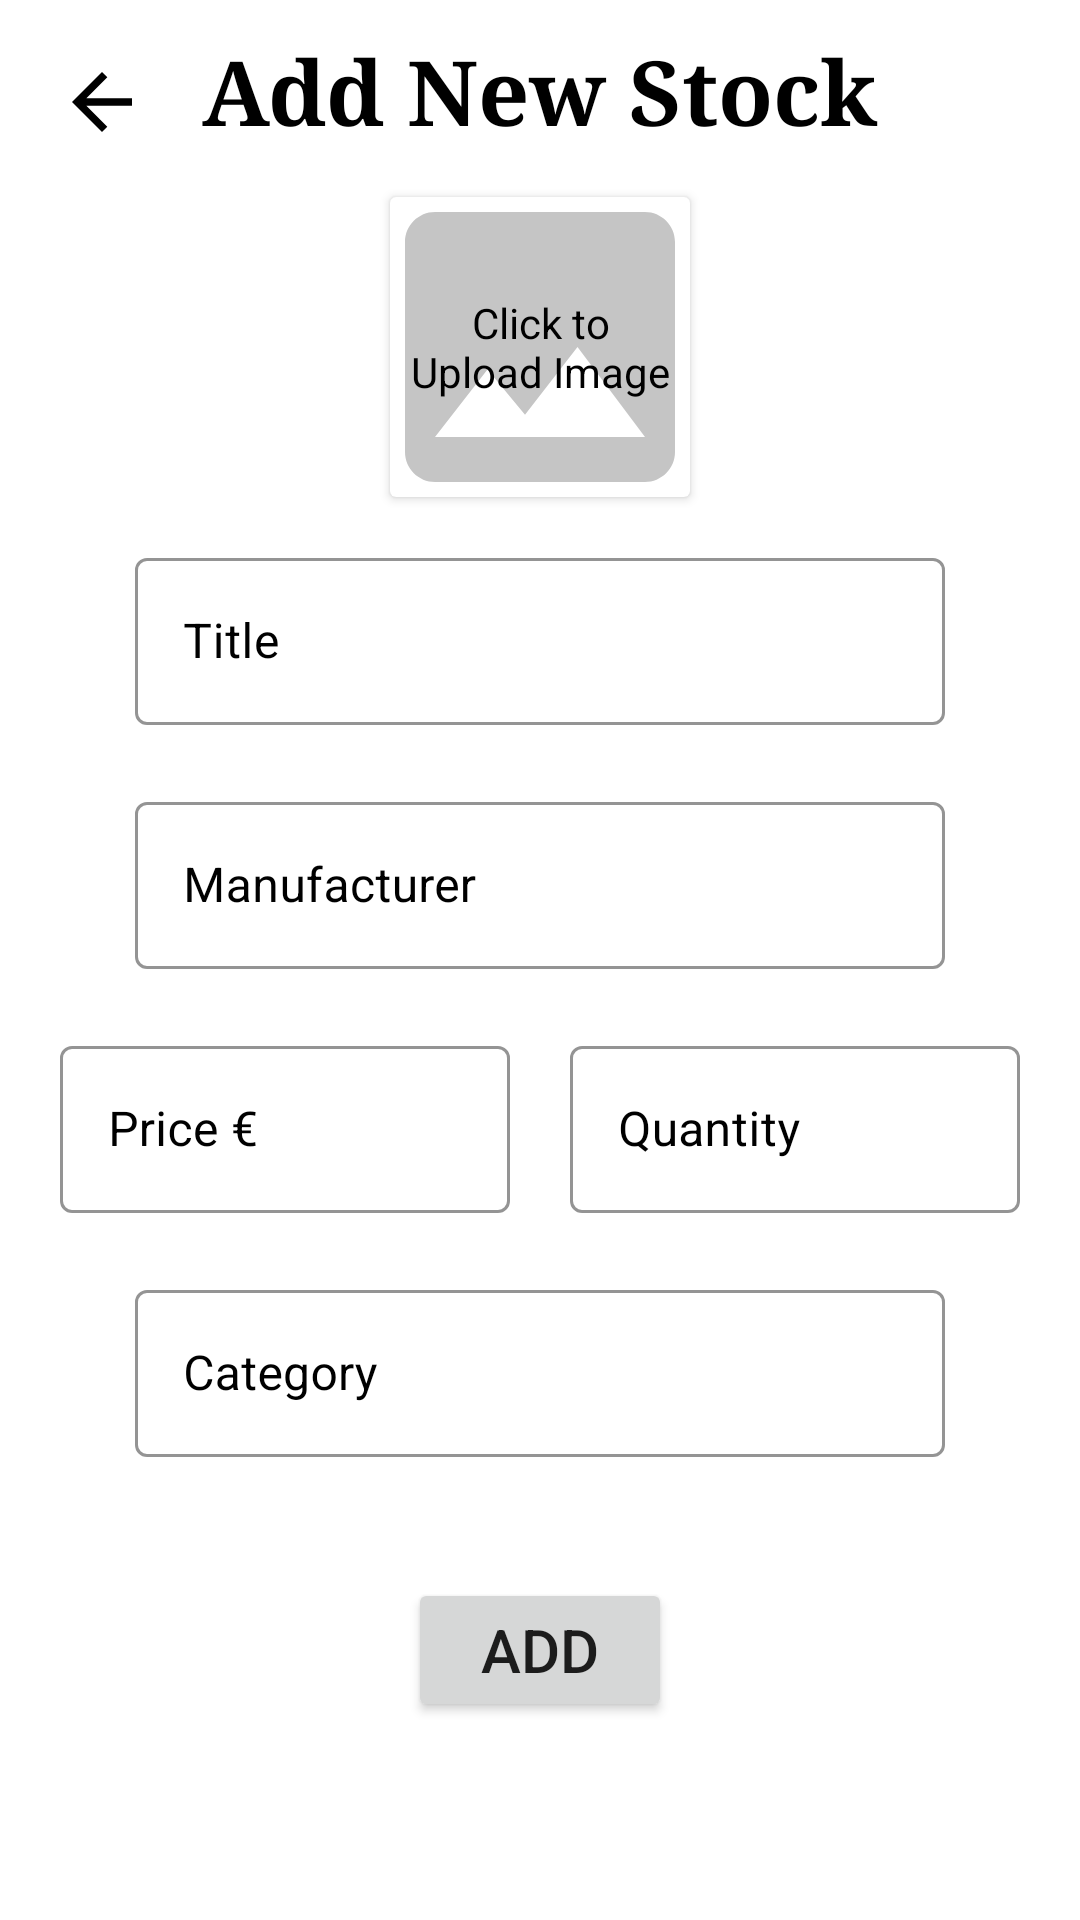

Screen size 1080 x 1920. Icon name, then its center in pixels as (x,y):
arrow back: (102,102)
